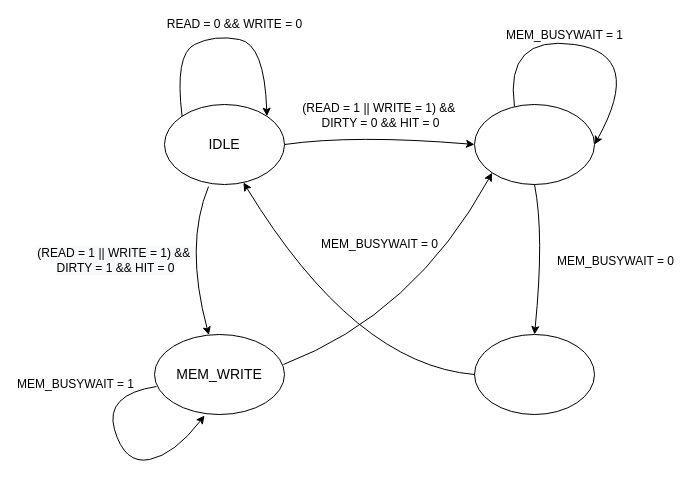
The diagram is 692 pixels wide and 478 high, and some of its shapes have lost their labels. Here are the shapes that lost their labels. From the top down, the box of each, then its label:
(474, 104, 594, 184): MEM_READ
(474, 334, 594, 414): UPDATE_CACHE
